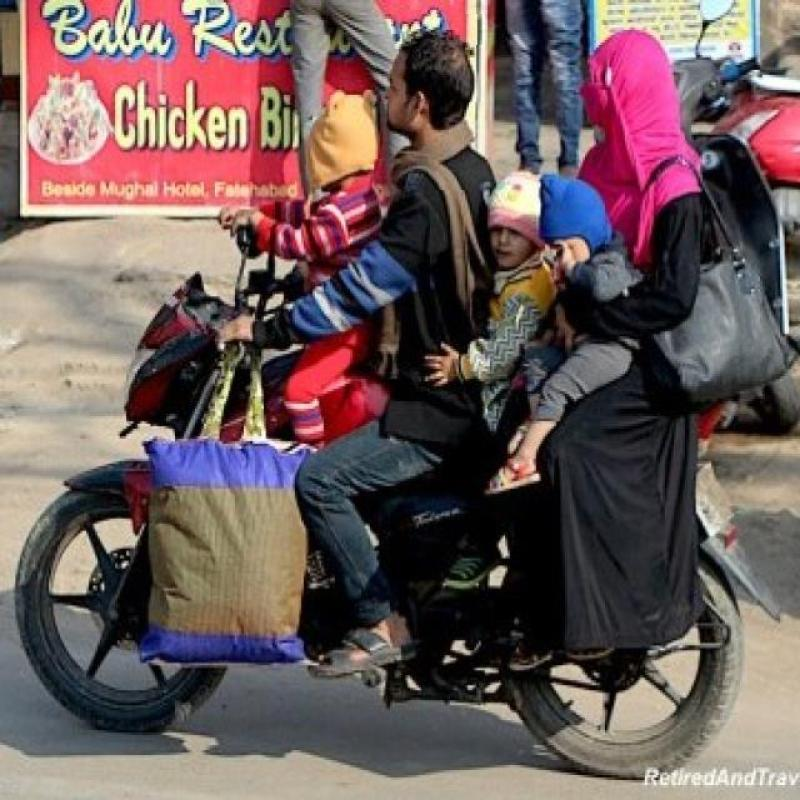nohelmet: (376, 14, 484, 190), (574, 0, 678, 178)
